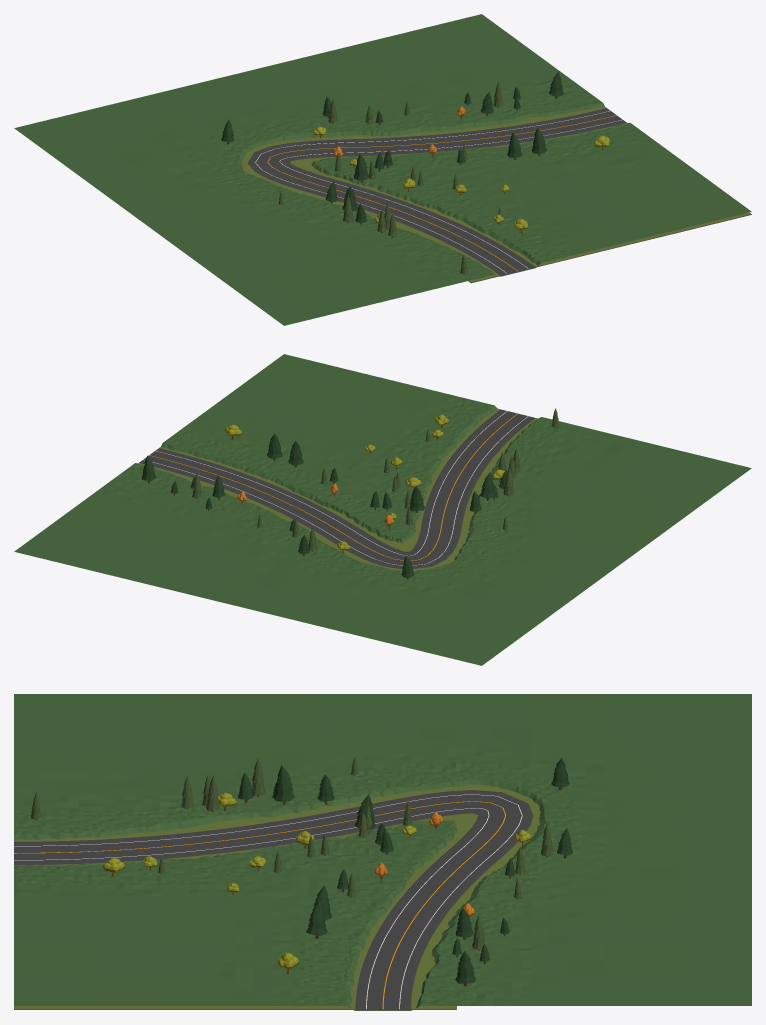
The model's file is ForestRoadLeft6.fbx.
3 renders of one model, top to bottom at view 1: azimuth 30°, elevation 25°; view 2: azimuth 150°, elevation 25°; view 3: azimuth 270°, elevation 25°, orthographic. The views are drawn at different scales.
Parts seen in each view (by area): view 1: FRL6Plane, FRL6Road; view 2: FRL6Plane, FRL6Road; view 3: FRL6Plane, FRL6Road.
Boxes of the visible parts, x1,y1,x2,y2 form: FRL6Plane: (14, 14, 751, 325); FRL6Road: (242, 106, 751, 283); FRL6Plane: (14, 354, 751, 665); FRL6Road: (138, 408, 538, 570); FRL6Plane: (14, 694, 751, 1010); FRL6Road: (14, 784, 540, 1009).
Size of what is drawn, in the model's own units: 40000 by 2616 by 40000.
